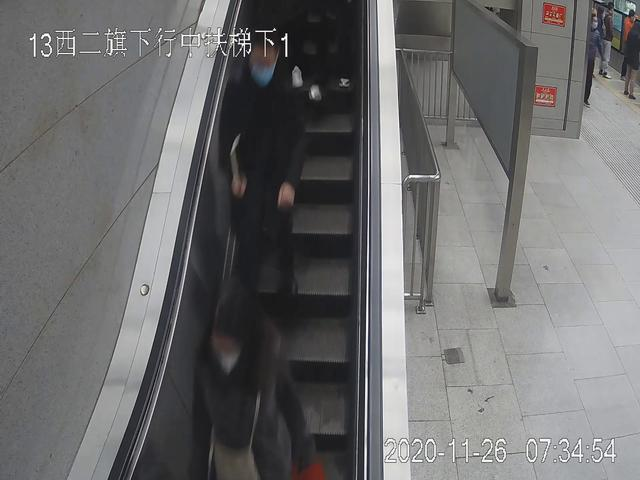person: (196, 307, 327, 480), (220, 30, 302, 306), (582, 9, 607, 108), (599, 3, 617, 79)
